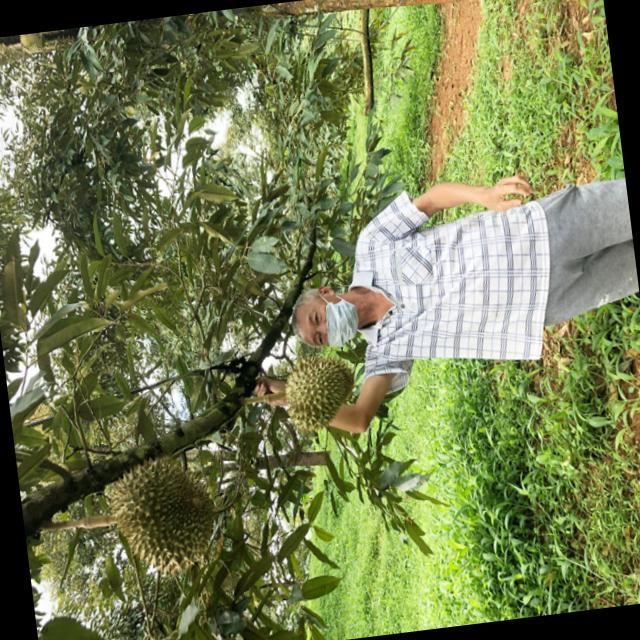Sau Rieng: (102, 451, 220, 584), (244, 348, 358, 443), (16, 33, 42, 56)
